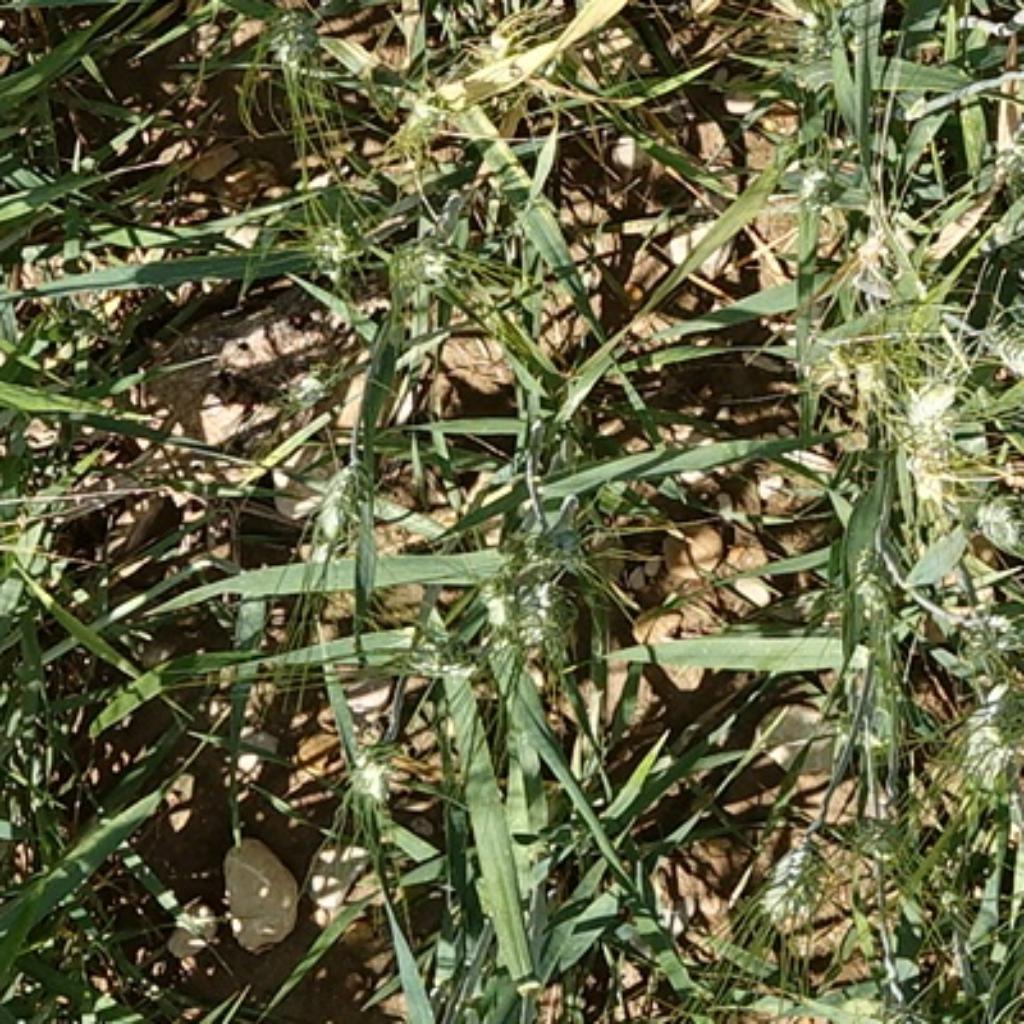0-0: (750, 803, 852, 949), (479, 541, 594, 662), (928, 670, 1024, 806), (450, 23, 586, 107), (366, 61, 460, 161), (880, 403, 972, 498), (304, 445, 399, 537), (330, 704, 404, 808), (378, 217, 463, 296), (947, 593, 1024, 670), (845, 526, 906, 619), (294, 202, 371, 268), (256, 0, 327, 69), (975, 307, 1024, 391), (965, 476, 1024, 545), (1016, 10, 1024, 79)
